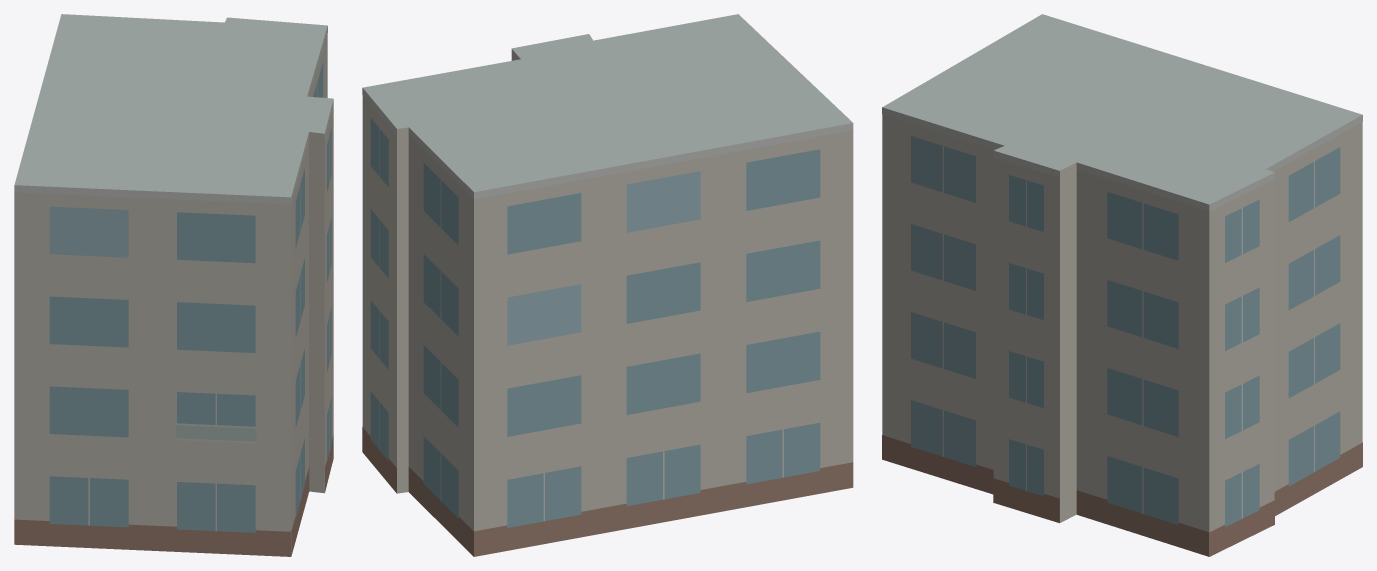
File: survey-upis-32875475.glb
3 renders of one model, left to right at view 1: azimuth 30°, elevation 25°; view 2: azimuth 150°, elevation 25°; view 3: azimuth 270°, elevation 25°, orthographic. The views are drawn at different scales.
Visible parts, largest first — view 1: survey-upis-32875475.tmp; view 2: survey-upis-32875475.tmp; view 3: survey-upis-32875475.tmp.
Part boxes in pixels (bbox=[...]): survey-upis-32875475.tmp: bbox=[14, 14, 333, 556]; survey-upis-32875475.tmp: bbox=[362, 14, 853, 556]; survey-upis-32875475.tmp: bbox=[882, 14, 1362, 556].
Size of the model in its own units: 14.28 by 12.3 by 15.22.
